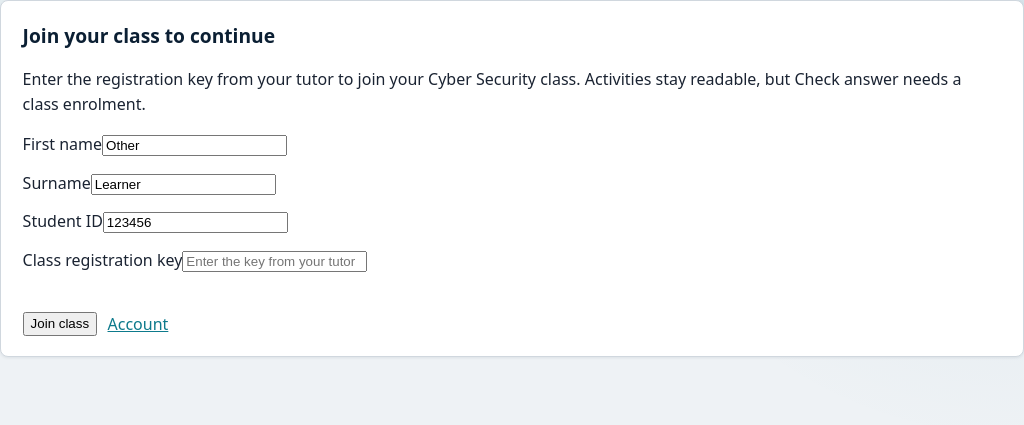
Scenario: Cyber Security normal learner enrolment › surfaces Student ID already-linked instead of the generic platform message
This screenshot has width=1024, height=425.
Type "nhc-cyber-26" into the field labelled "Class registration key" at (275, 261), box top-left (182, 250), bottom-right (367, 272)
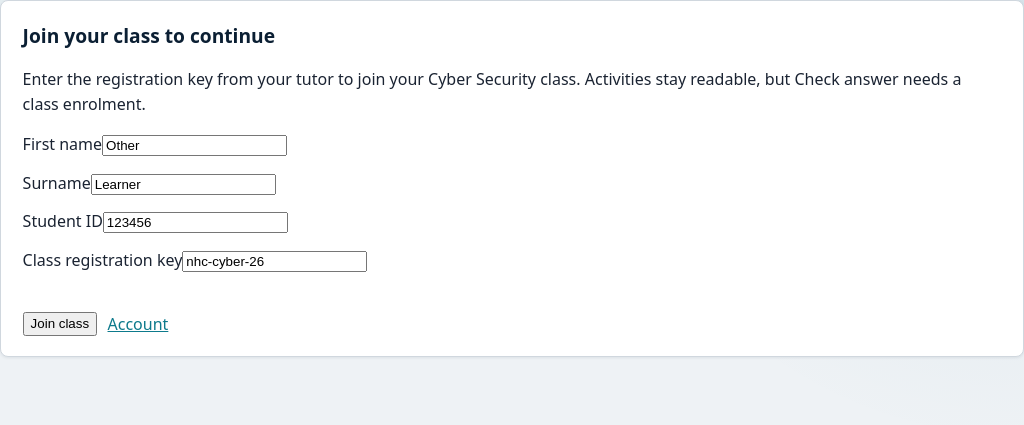
Click the button "Join class" at (60, 324), box top-left (23, 312), bottom-right (97, 336)
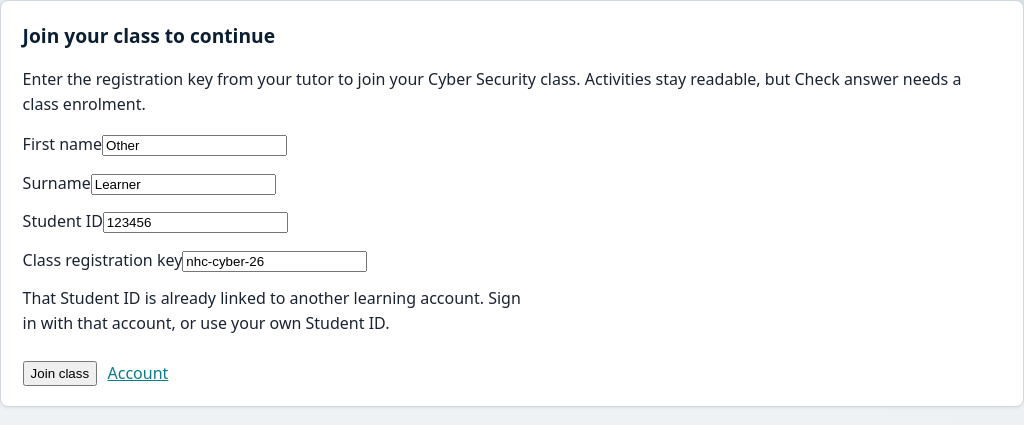
Result: the text "already linked to another learning account" is shown at top-left (23, 287), bottom-right (521, 334)
